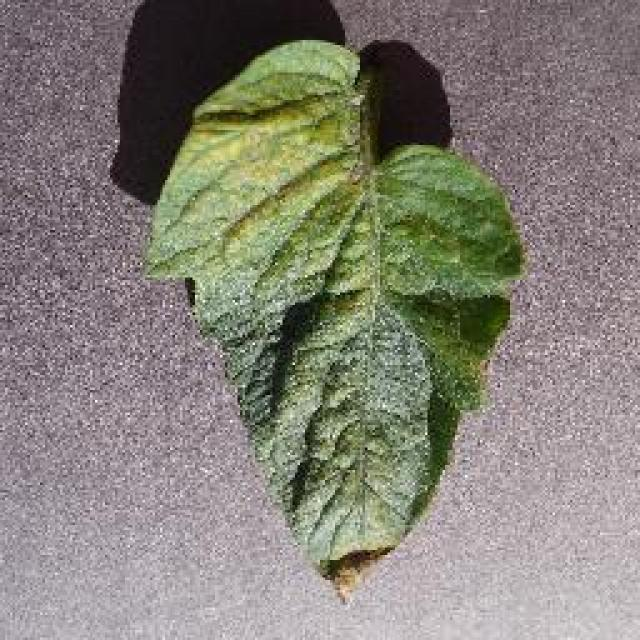Tomato___Spider_mites Two-spotted_spider_mite: (145, 40, 522, 607)
